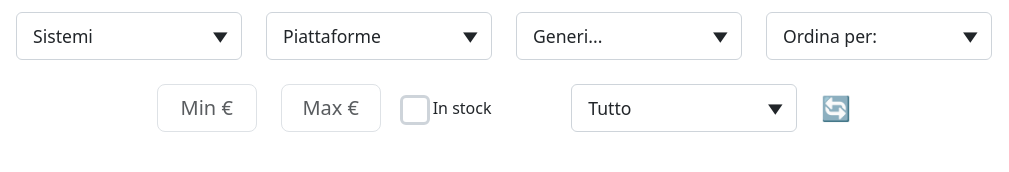
Filters › reset button clears filters
This screenshot has width=1009, height=172.
Type "99" into the number field with placeholder "Max €" at x=331, y=108, box [281,84,381,132]
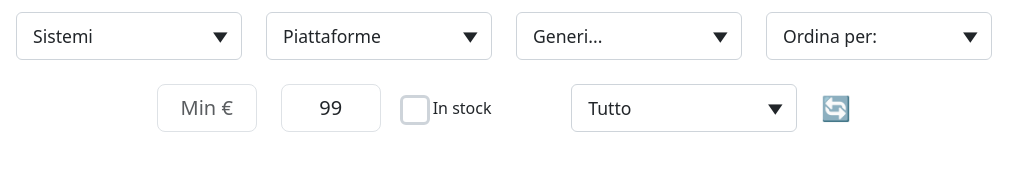
Click the button titled "reset filtri" at x=836, y=108, box [821,96,851,120]
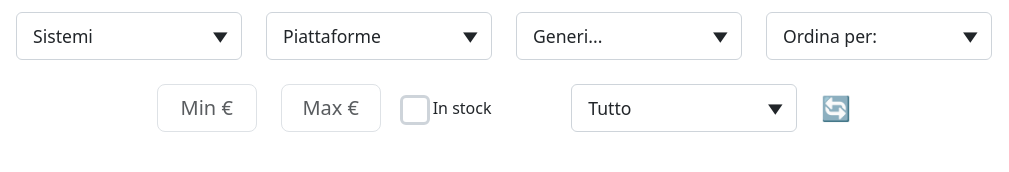
Expected: the number field with placeholder "Max €" is empty, [281,84,381,132]
